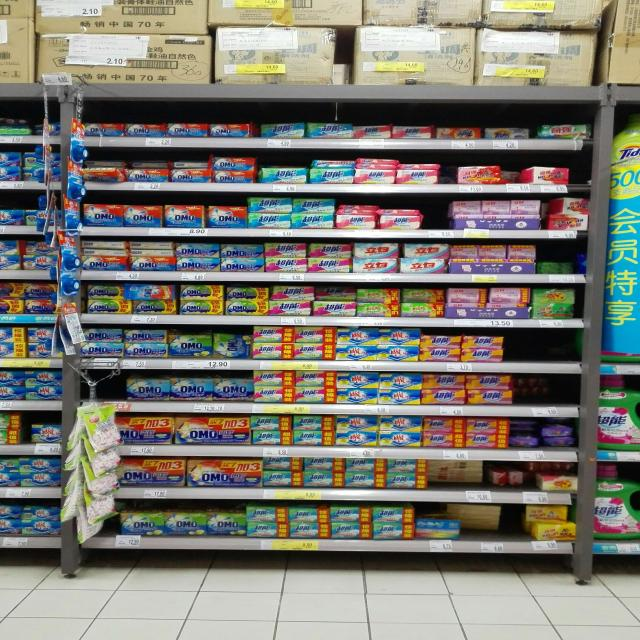void: (540, 326, 580, 373), (544, 374, 579, 417), (81, 374, 126, 407), (504, 502, 528, 554), (507, 335, 538, 375), (423, 200, 452, 239), (518, 376, 544, 417), (504, 162, 528, 194)
